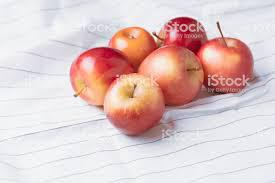apple: (101, 69, 165, 135), (62, 48, 134, 101), (140, 46, 204, 101), (198, 36, 254, 96), (109, 23, 155, 66), (158, 15, 205, 47)
